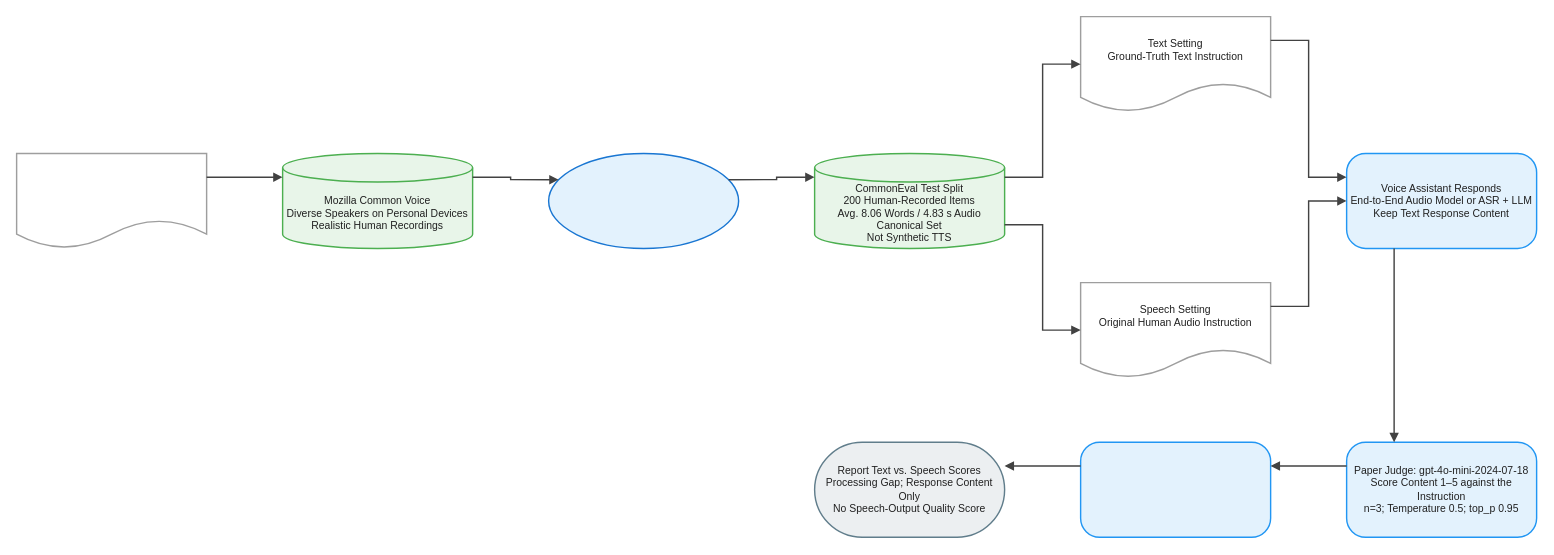
This 1554x555 diagram has some shape labels left out. Here are the shapes that lost their labels. From the top down, the box of each, then its label:
(15, 152, 207, 249): VoiceBench arXiv:2410.17196v3 Repo d9c570e / HF b02edce Parquet SHA256 3a02af9…
(547, 152, 739, 249): Manual Collection Select Information-Seeking Questions Preserve the Human Speech
(1079, 441, 1271, 538): Mean All 3 Ratings per Item Average across 200 Items Official Open Evaluator
